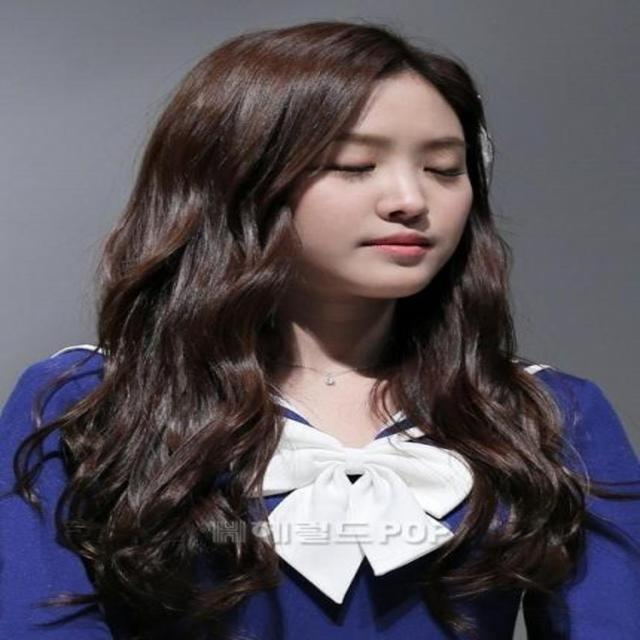nomask: (278, 74, 477, 297)
